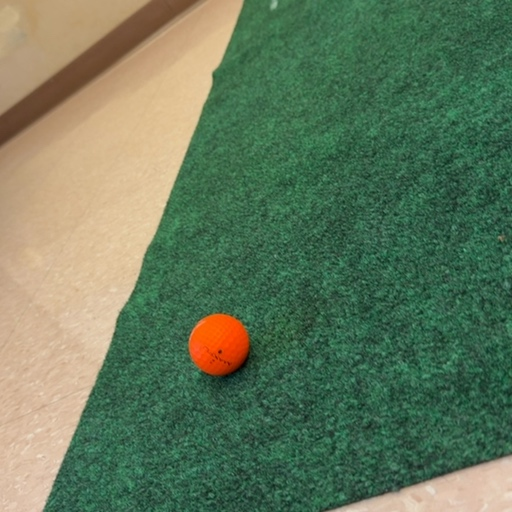Ball: (189, 314, 250, 376)
